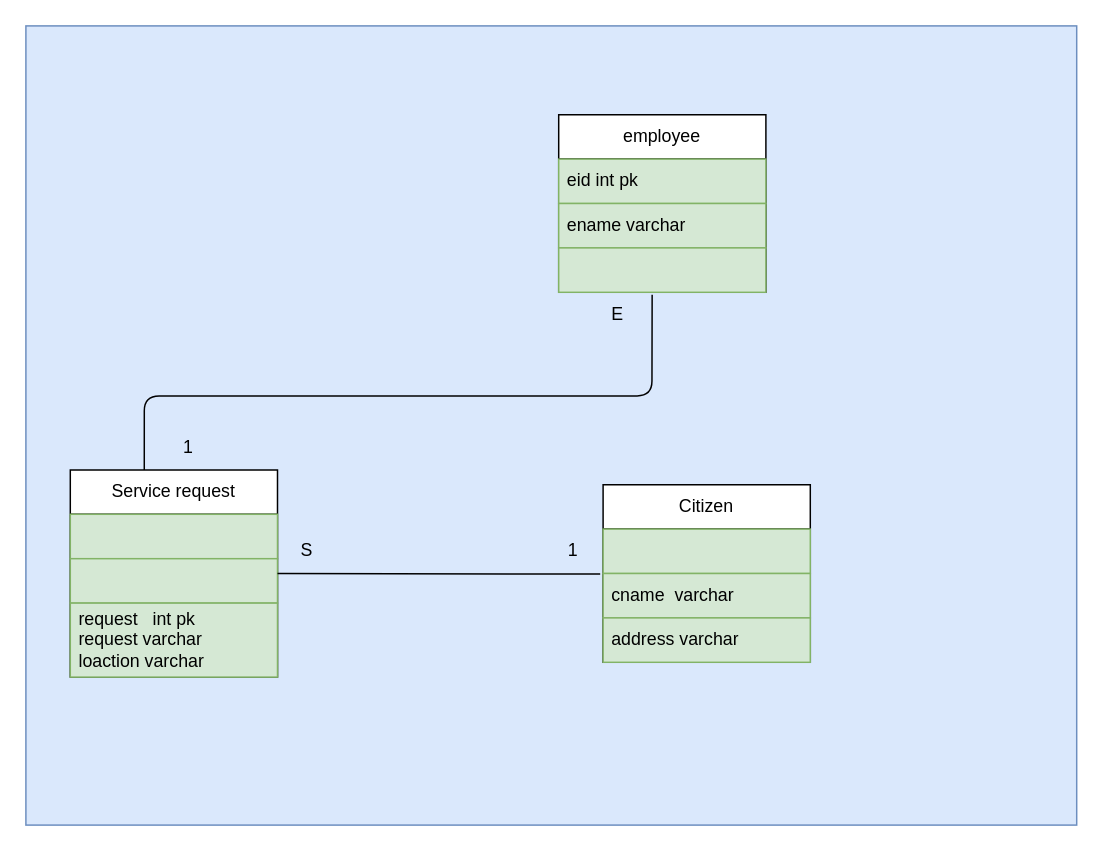
Some shapes in this 1103 by 851 pixel diagram are drawn without their labels. The shapes that lost their labels are listed below. From the top down, each one's centre as x and y in pixels, then its label:
At [661,269]: "department varchar".
At [173,536]: "eid int foreignkey".
At [706,551]: "cid int pk".
At [173,580]: "cid int foreignkey".
